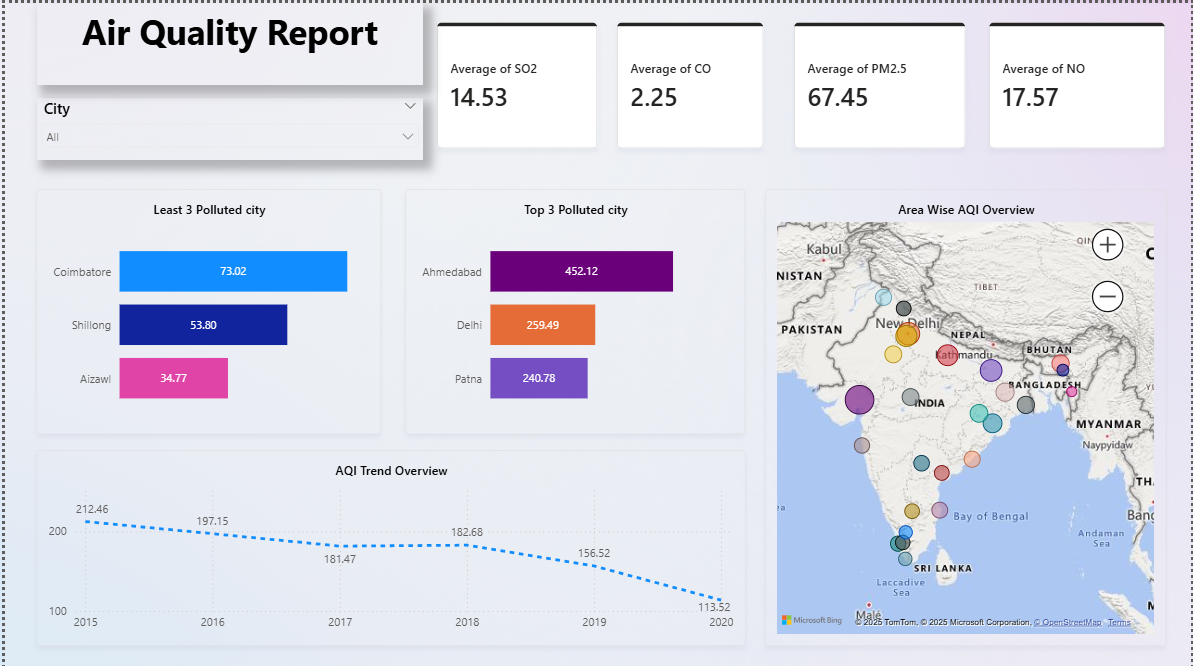

The page's visual inventory and layout, read from the dashboard file:
{"tool":"powerbi","page":{"name":"Page 1","canvas":[1280,720],"ordinal":0},"visuals":[{"type":"lineChart","title":" AQI Trend Overview","fields":{"Category":["city_day.Date.Variation.Date Hierarchy.Year","city_day.Date.Variation.Date Hierarchy.Quarter","city_day.Date.Variation.Date Hierarchy.Month","city_day.Date.Variation.Date Hierarchy.Day"],"Y":["Avg(city_day.AQI)"]},"box":[34,481.9,765.4,211.7],"z":0},{"type":"slicer","fields":{"Values":["city_day.City"]},"box":[34,102,417.6,68],"z":1000},{"type":"barChart","title":"Top 3 Polluted city","fields":{"Category":["city_day.City"],"Y":["Avg(city_day.AQI)"],"Series":["city_day.City"]},"box":[432.8,200.3,366.6,264.6],"z":2000},{"type":"barChart","title":"Least 3 Polluted city","fields":{"Category":["city_day.City"],"Y":["Avg(city_day.AQI)"],"Series":["city_day.City"]},"box":[34,200.3,372.3,264.6],"z":3000},{"type":"cardVisual","fields":{"Data":["Avg(city_day.CO)"]},"box":[661.4,20.8,158.7,136.1],"z":4000},{"type":"cardVisual","fields":{"Data":["Avg(city_day.NO)"]},"box":[1062.1,20.8,190.9,136.1],"z":5000},{"type":"cardVisual","fields":{"Data":["Avg(city_day.SO2)"]},"box":[466.8,20.8,173.9,136.1],"z":6000},{"type":"cardVisual","fields":{"Data":["Avg(city_day.PM2.5)"]},"box":[852.3,20.8,185.2,136.1],"z":7000},{"type":"map","title":"Area Wise AQI Overview","fields":{"Category":["city_day.City"],"Size":["Avg(city_day.AQI)"],"Series":["city_day.City"]},"box":[820.2,200.3,432.8,493.2],"z":8000},{"type":"textbox","box":[34,0,417.6,88.8],"z":9000}]}

Visuals, with their boxes in screenshot pixels (x1, y1, x2, y2), scaled from the page's 1280x720 canvas onto the 1193x666 screenshot:
" AQI Trend Overview" lineChart: bbox=[32, 446, 745, 642]
slicer - city_day.City: bbox=[32, 94, 421, 157]
"Top 3 Polluted city" barChart: bbox=[403, 185, 745, 430]
"Least 3 Polluted city" barChart: bbox=[32, 185, 379, 430]
cardVisual - Avg(city_day.CO): bbox=[616, 19, 764, 145]
cardVisual - Avg(city_day.NO): bbox=[990, 19, 1168, 145]
cardVisual - Avg(city_day.SO2): bbox=[435, 19, 597, 145]
cardVisual - Avg(city_day.PM2.5): bbox=[794, 19, 967, 145]
"Area Wise AQI Overview" map: bbox=[764, 185, 1168, 641]
textbox: bbox=[32, 0, 421, 82]
